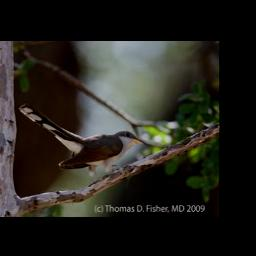Cuckoo: (17, 98, 149, 187)
